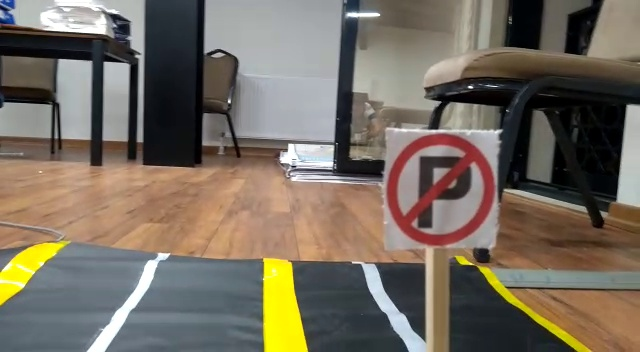park_yapilmaz: (384, 130, 496, 251)
